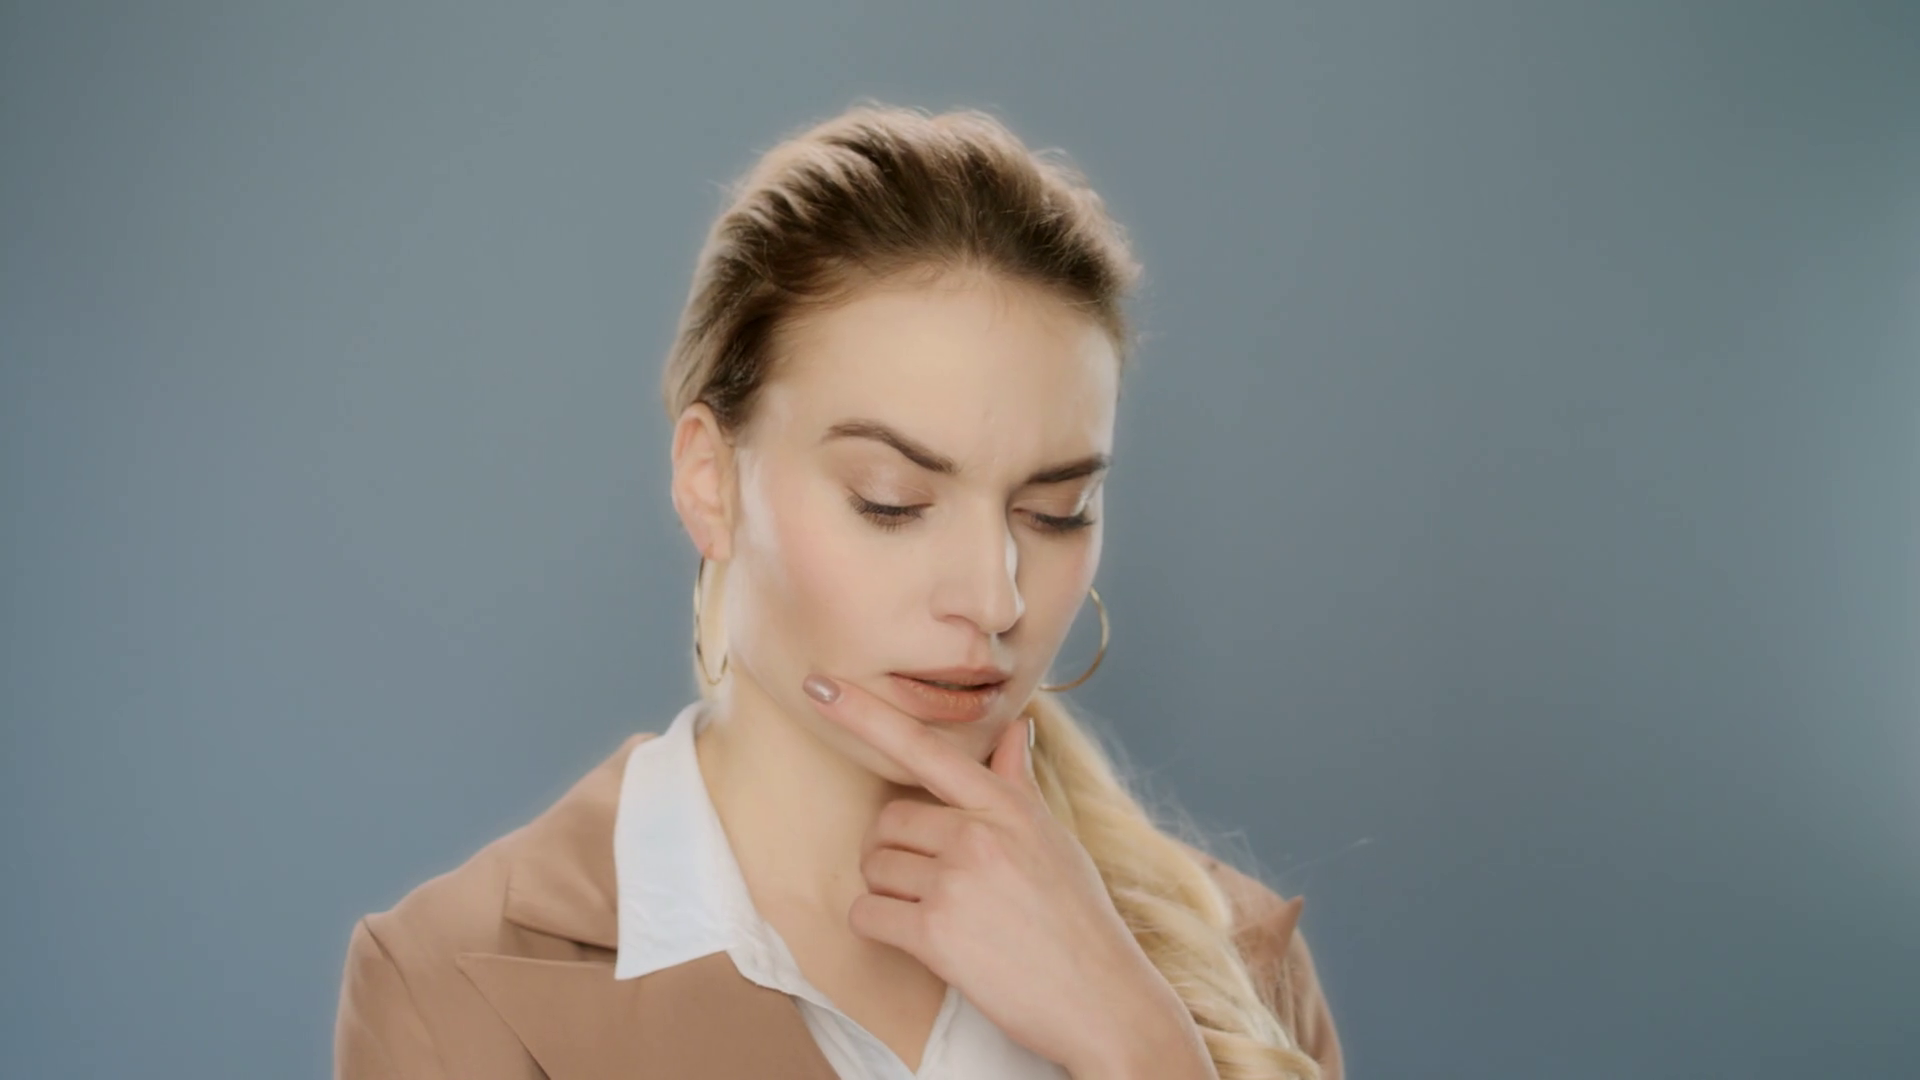human: (309, 74, 1403, 1080)
